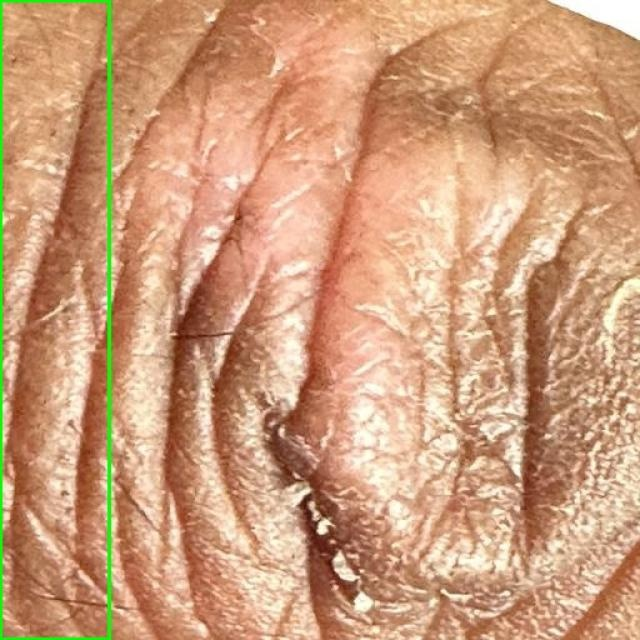Contact Dermatitis: (0, 0, 109, 639)
